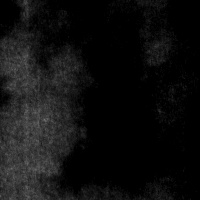patches: (72, 38, 164, 189), (0, 1, 24, 38)
